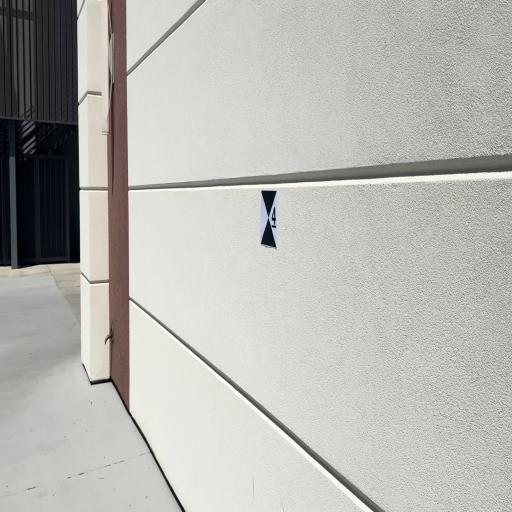target4: (260, 190, 278, 249)
